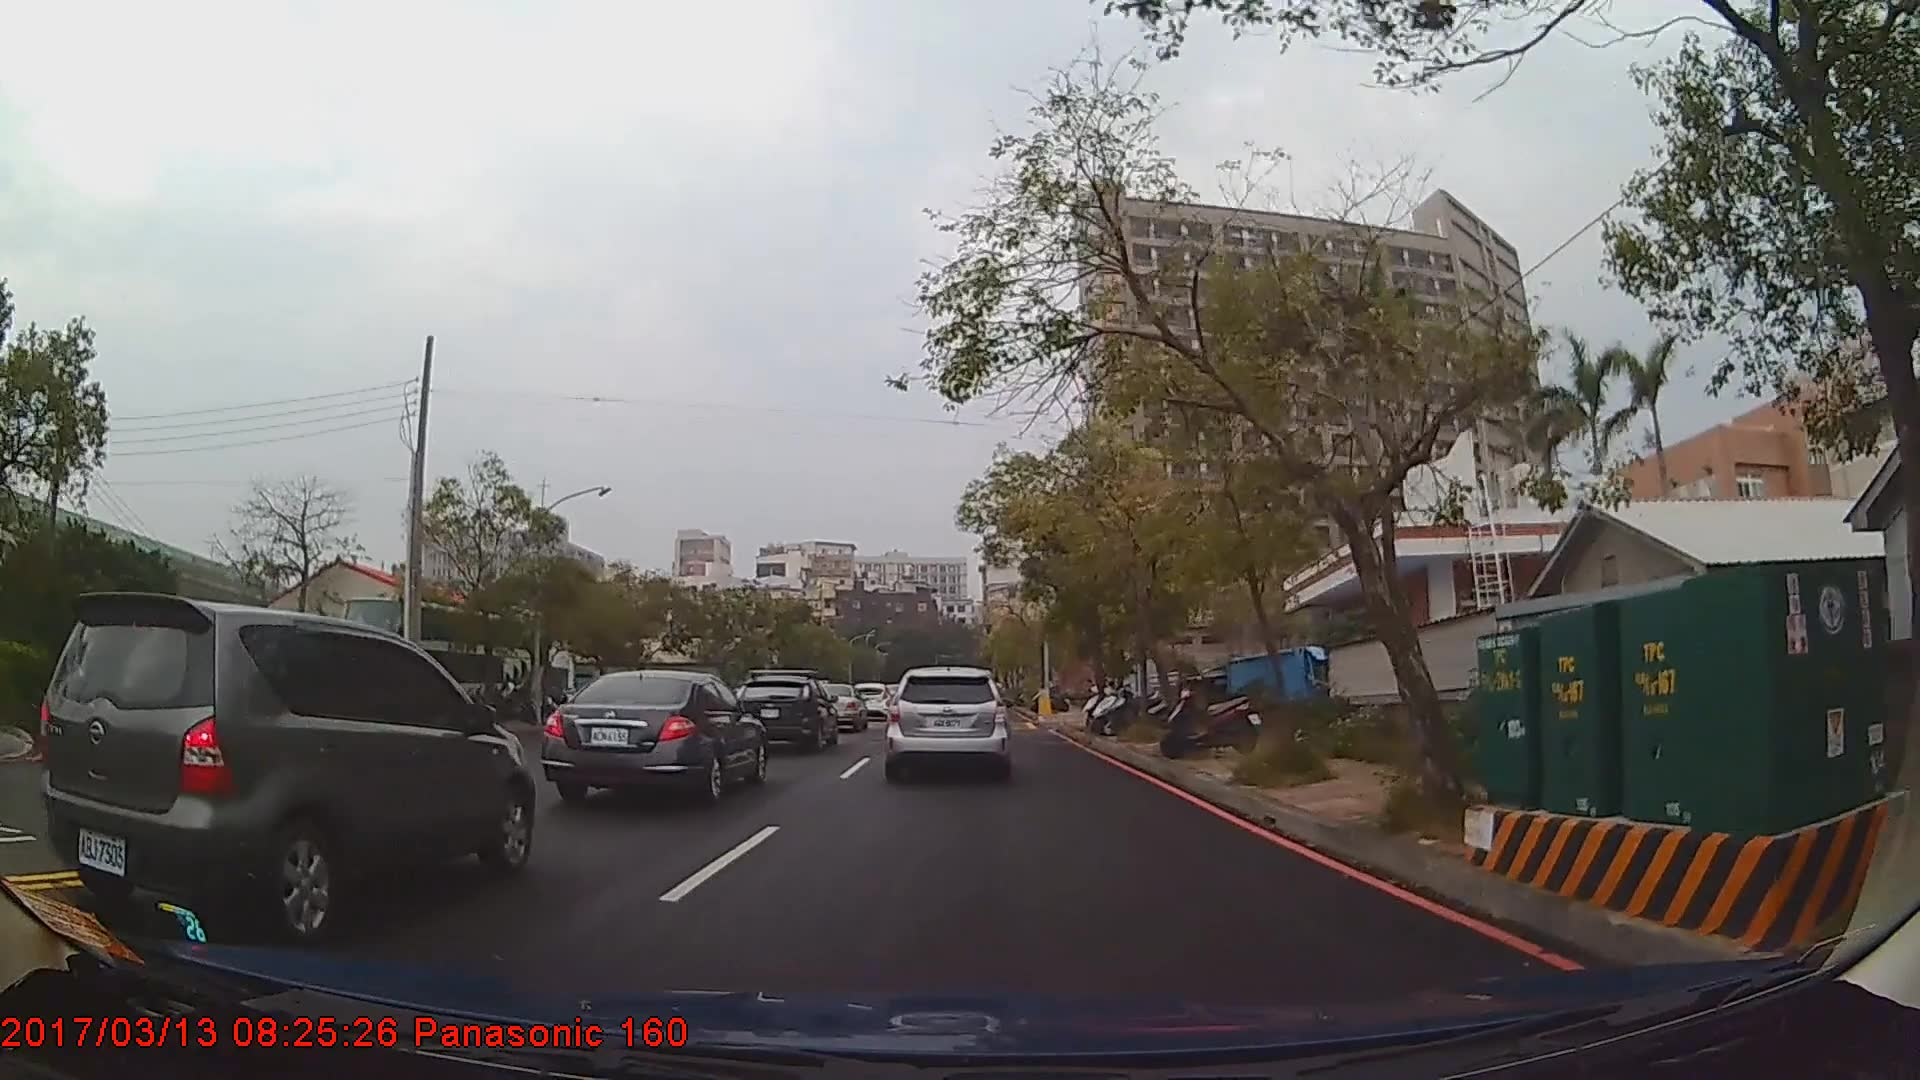vehicle: (38, 589, 534, 939), (541, 669, 767, 808), (336, 596, 533, 713), (884, 665, 1011, 781), (731, 670, 837, 752), (812, 680, 866, 731), (847, 680, 893, 720)
